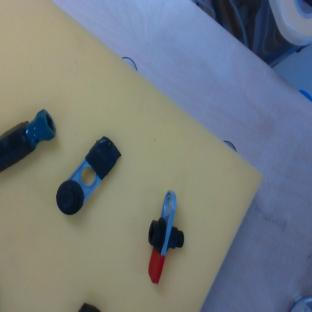part_1_bad: (48, 134, 125, 219)
part_1_good: (148, 190, 184, 283)
part_2_bad: (0, 107, 62, 172)
